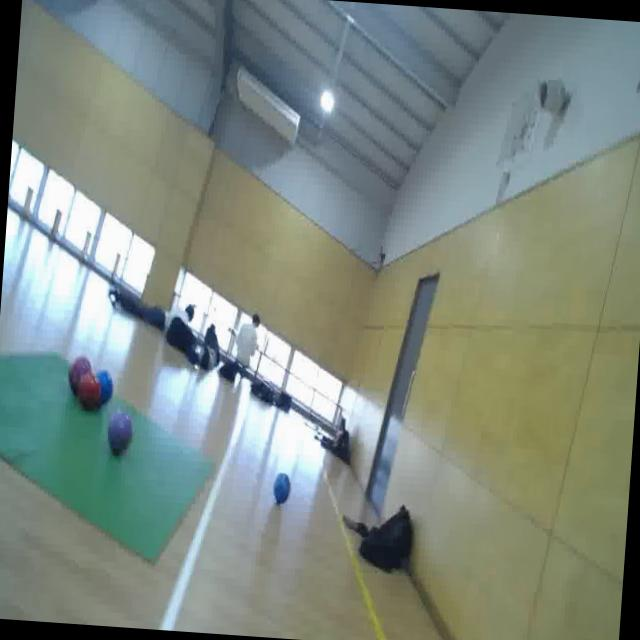blue_ball: (93, 362, 117, 408), (270, 468, 292, 507)
purple_ball: (104, 406, 136, 458)
red_ball: (64, 345, 94, 402), (76, 372, 100, 416)
